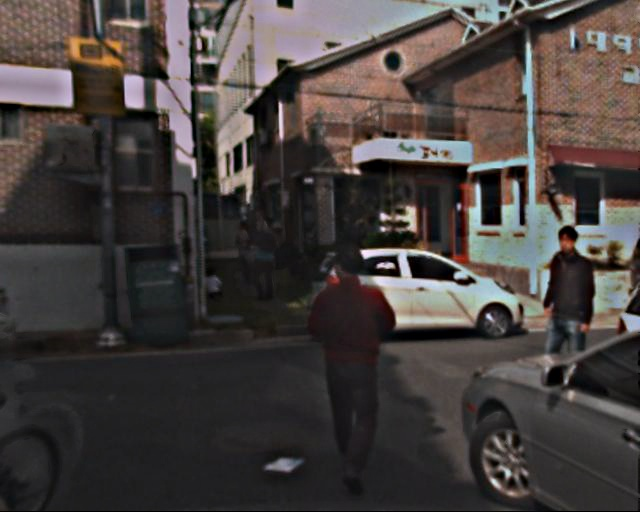person: (302, 247, 402, 494), (526, 223, 607, 421), (250, 215, 286, 302), (234, 221, 261, 286), (204, 266, 222, 305)
